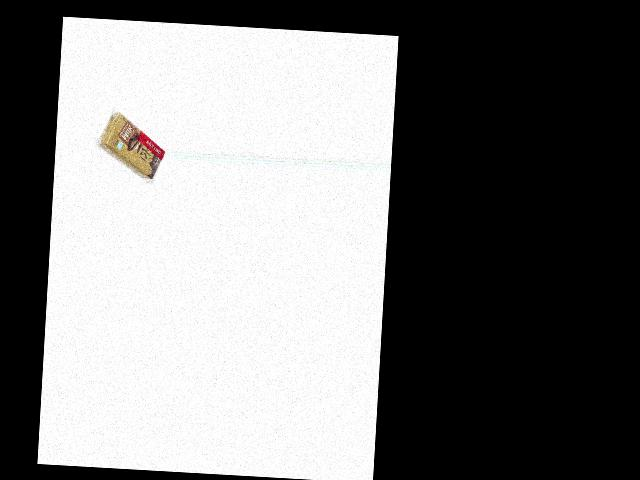chocolate: (95, 103, 166, 181)
